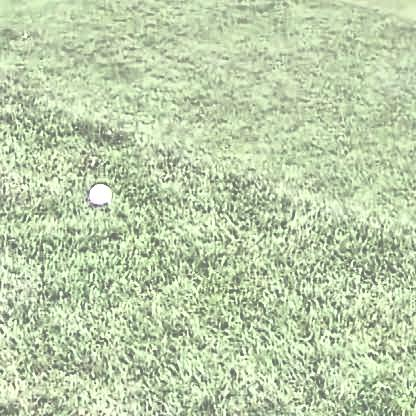golfball: (88, 178, 110, 202)
